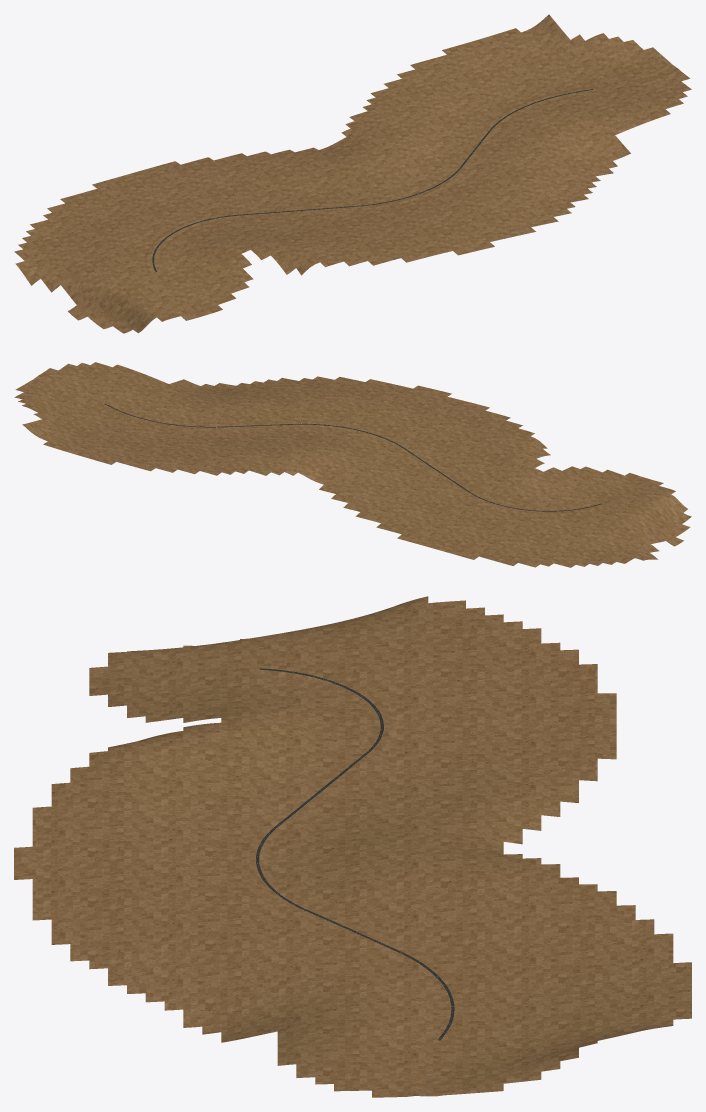
3 views of the same model, one above another, from view 1: azimuth 30°, elevation 25°; view 2: azimuth 150°, elevation 25°; view 3: azimuth 270°, elevation 25° (orthographic). The views are drawn at different scales.
Parts seen in each view (by area): view 1: S04_TERRAIN_LOD1_WEB_EXPORT, S04_ROAD_ASPHALT_LOD1_WEB_EXPORT; view 2: S04_TERRAIN_LOD1_WEB_EXPORT, S04_ROAD_ASPHALT_LOD1_WEB_EXPORT; view 3: S04_TERRAIN_LOD1_WEB_EXPORT, S04_ROAD_ASPHALT_LOD1_WEB_EXPORT.
Part boxes in pixels (x1,y1,x2,y2): S04_TERRAIN_LOD1_WEB_EXPORT: (14,14,691,333); S04_ROAD_ASPHALT_LOD1_WEB_EXPORT: (152,89,592,271); S04_TERRAIN_LOD1_WEB_EXPORT: (14,362,691,567); S04_ROAD_ASPHALT_LOD1_WEB_EXPORT: (104,403,601,511); S04_TERRAIN_LOD1_WEB_EXPORT: (14,596,691,1097); S04_ROAD_ASPHALT_LOD1_WEB_EXPORT: (256,668,454,1040).
Bounding box in the file's own units: 2840 × 293 × 1440.
Materials: 6 (6 with a texture image).
